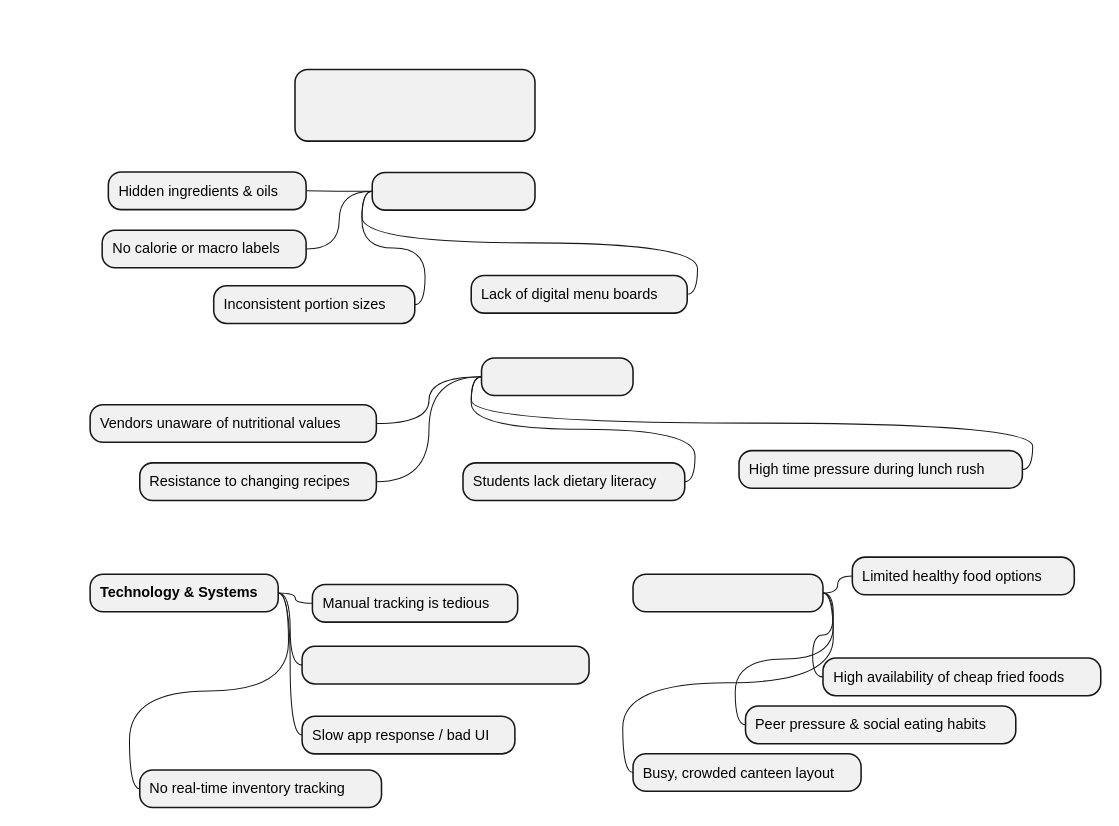
This 1119x826 diagram has some shape labels left out. The centre of each missing label's shape, as x and y in pixels:
"Data & Information" goes at point (453, 190).
"Environment & Culture" goes at point (727, 592).
"Lack of personalized decision support" goes at point (445, 664).
"People & Vendors" goes at point (556, 376).
"Root Problem - Ineffective Dietary Adherence at Campus Canteens" goes at point (414, 104).
